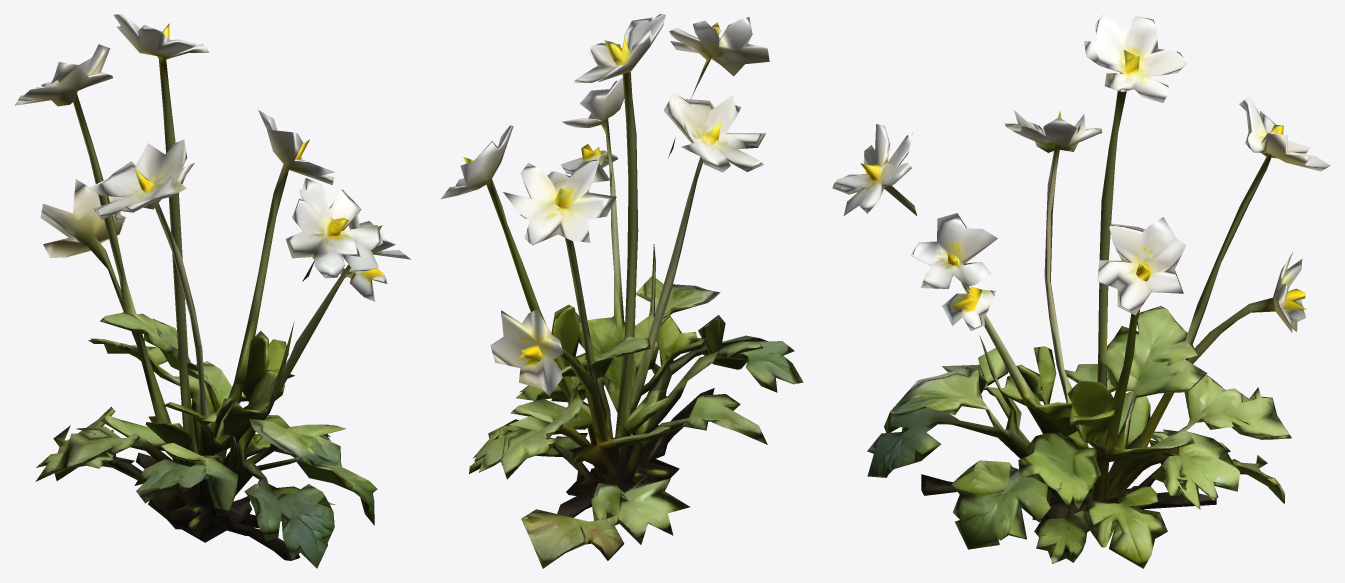
The model's file is flowers.glb.
3 renders of one model, left to right at view 1: azimuth 30°, elevation 25°; view 2: azimuth 150°, elevation 25°; view 3: azimuth 270°, elevation 25°, orthographic. The views are drawn at different scales.
Visible parts, largest first — view 1: tripo_node_0d461953-0c57-453c-8ddb-e3f3e5641959; view 2: tripo_node_0d461953-0c57-453c-8ddb-e3f3e5641959; view 3: tripo_node_0d461953-0c57-453c-8ddb-e3f3e5641959.
Boxes of the visible parts, x1,y1,x2,y2 form: tripo_node_0d461953-0c57-453c-8ddb-e3f3e5641959: (14, 14, 410, 568); tripo_node_0d461953-0c57-453c-8ddb-e3f3e5641959: (440, 14, 803, 568); tripo_node_0d461953-0c57-453c-8ddb-e3f3e5641959: (832, 14, 1330, 568).
Bounding box in the file's own units: 0.6243 × 1 × 0.9481.
1 material, 1 textured.
